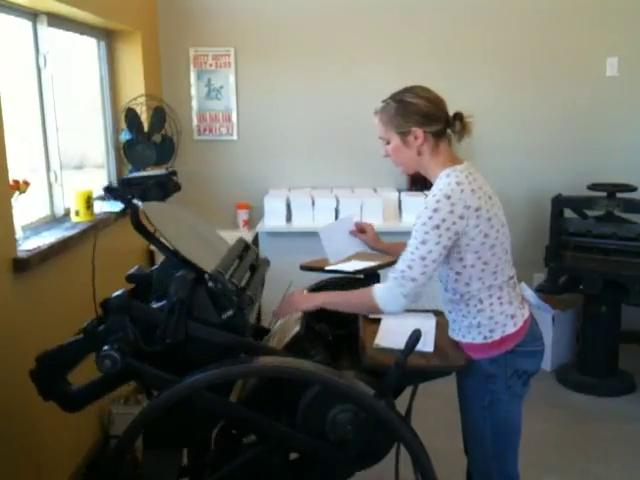victim: (280, 83, 548, 480)
